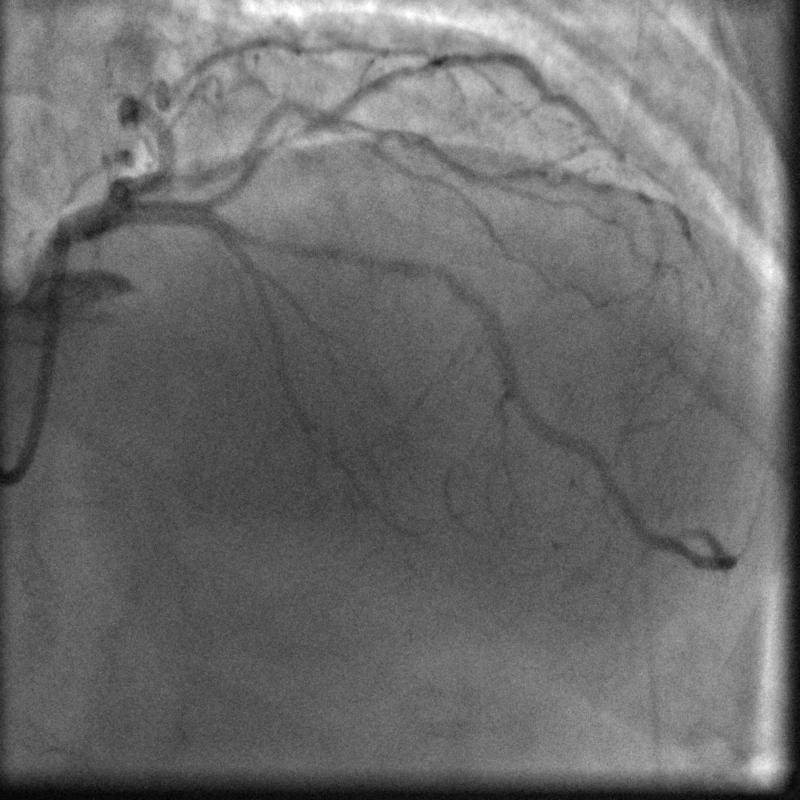Stenosis: (251, 226, 332, 260)
